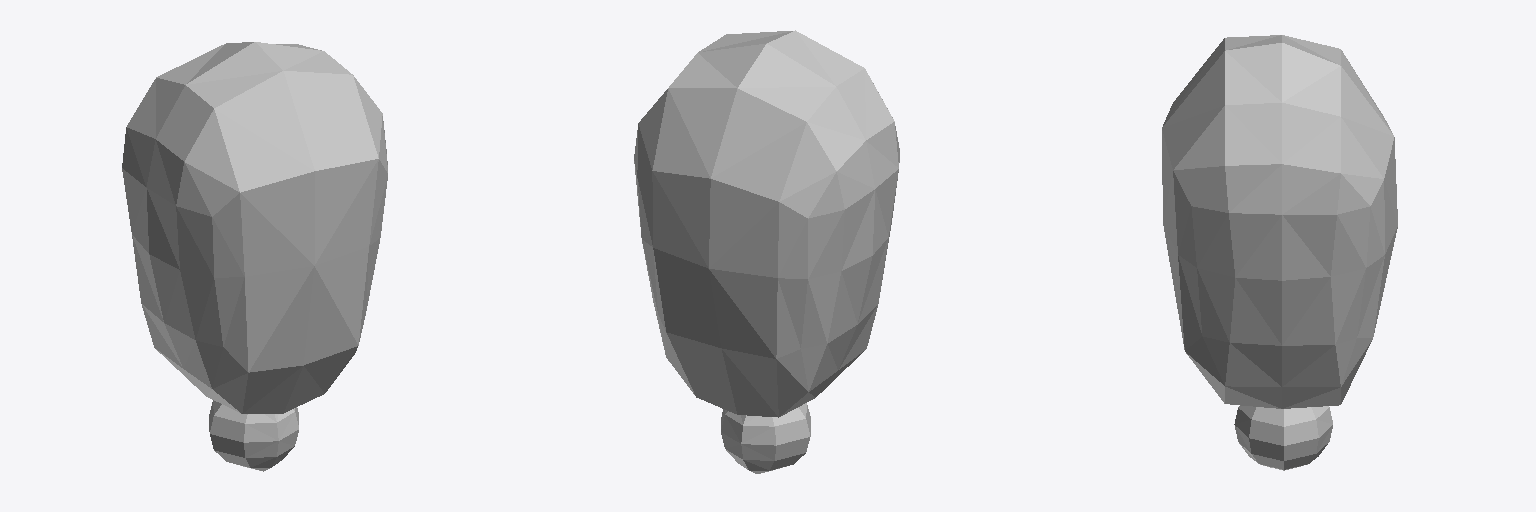
Rendered from head.obj.
3 renders of one model, left to right at view 1: azimuth 30°, elevation 25°; view 2: azimuth 150°, elevation 25°; view 3: azimuth 270°, elevation 25°, orthographic.
Parts seen in each view (by area): view 1: Head.001_Cube.000; view 2: Head.001_Cube.000; view 3: Head.001_Cube.000.
Part boxes in pixels (x1,y1,x2,y2): Head.001_Cube.000: (122, 42, 387, 471); Head.001_Cube.000: (634, 30, 899, 473); Head.001_Cube.000: (1162, 35, 1397, 470).
Size of the model in its own units: 0.4355 by 0.819 by 0.411.